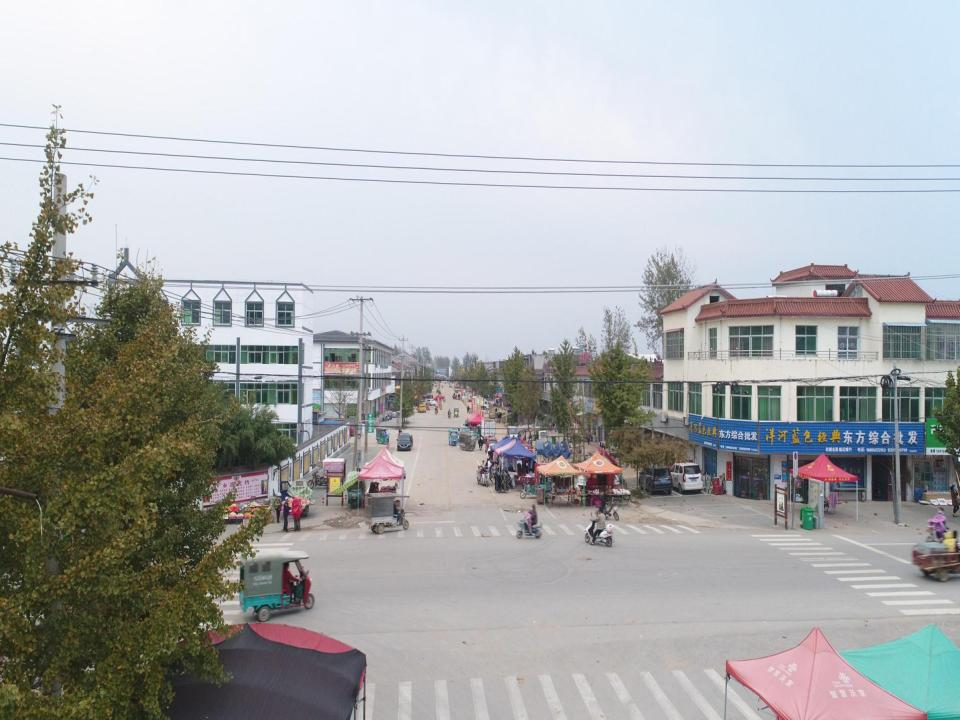car: (635, 461, 673, 496), (666, 460, 703, 494), (395, 432, 414, 452), (455, 424, 471, 444), (485, 436, 500, 455), (506, 424, 521, 443), (391, 409, 407, 417), (493, 397, 507, 406), (417, 402, 427, 414), (433, 395, 446, 402), (426, 398, 436, 405), (424, 392, 431, 399), (462, 388, 466, 393), (434, 382, 437, 387)
